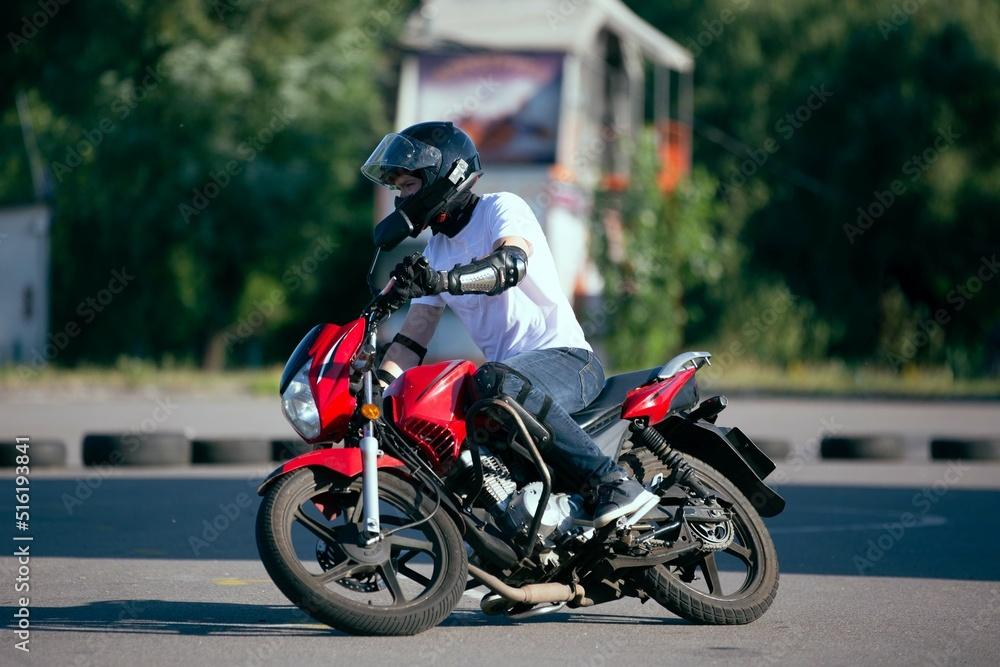helmet: (359, 119, 486, 240)
